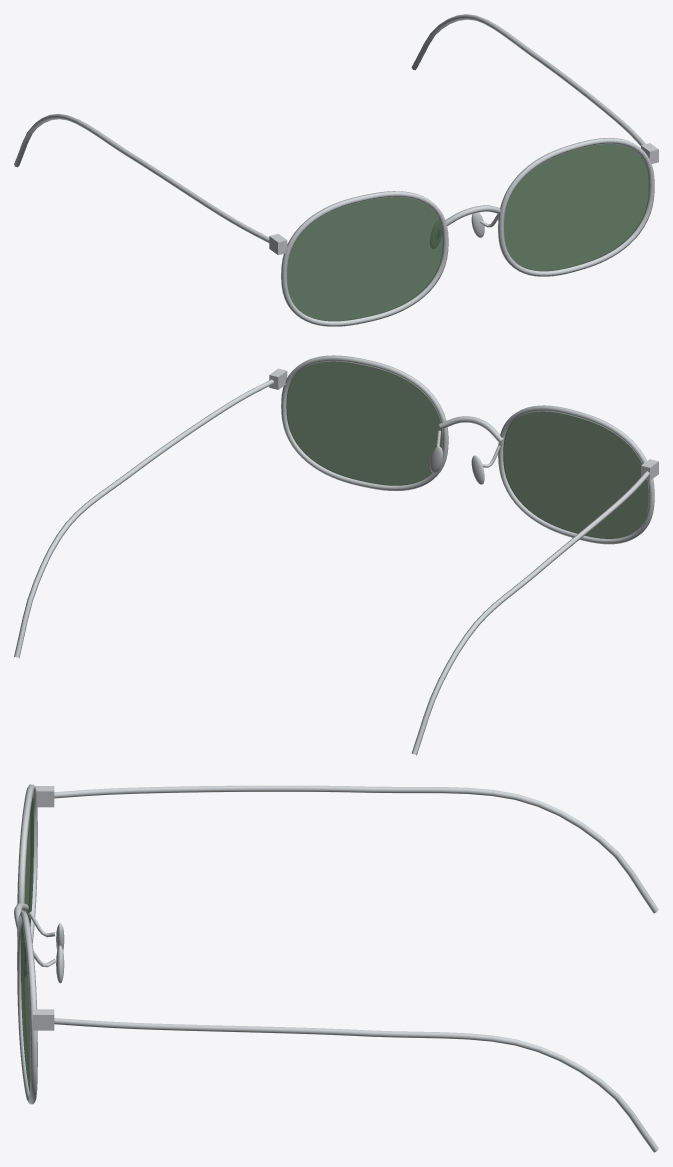
Rendered from NY-S08_Sol_Silver_Green_lens.glb.
3 views of the same model, one above another, from view 1: azimuth 30°, elevation 25°; view 2: azimuth 150°, elevation 25°; view 3: azimuth 270°, elevation 25° (orthographic). The views are drawn at different scales.
Parts seen in each view (by area): view 1: Sol_Silver_Green_lens_Lenses, Sol_Silver_Green_lens_Metal; view 2: Sol_Silver_Green_lens_Lenses, Sol_Silver_Green_lens_Metal; view 3: Sol_Silver_Green_lens_Metal, Sol_Silver_Green_lens_Lenses.
Part boxes in pixels (x1,y1,x2,y2): Sol_Silver_Green_lens_Lenses: (287,144,649,321); Sol_Silver_Green_lens_Metal: (14,14,658,326); Sol_Silver_Green_lens_Lenses: (286,361,648,538); Sol_Silver_Green_lens_Metal: (14,355,658,755); Sol_Silver_Green_lens_Metal: (14,784,658,1152); Sol_Silver_Green_lens_Lenses: (21,795,33,1091).
Bounding box in the file's own units: 0.1347 × 0.0421 × 0.1479.
